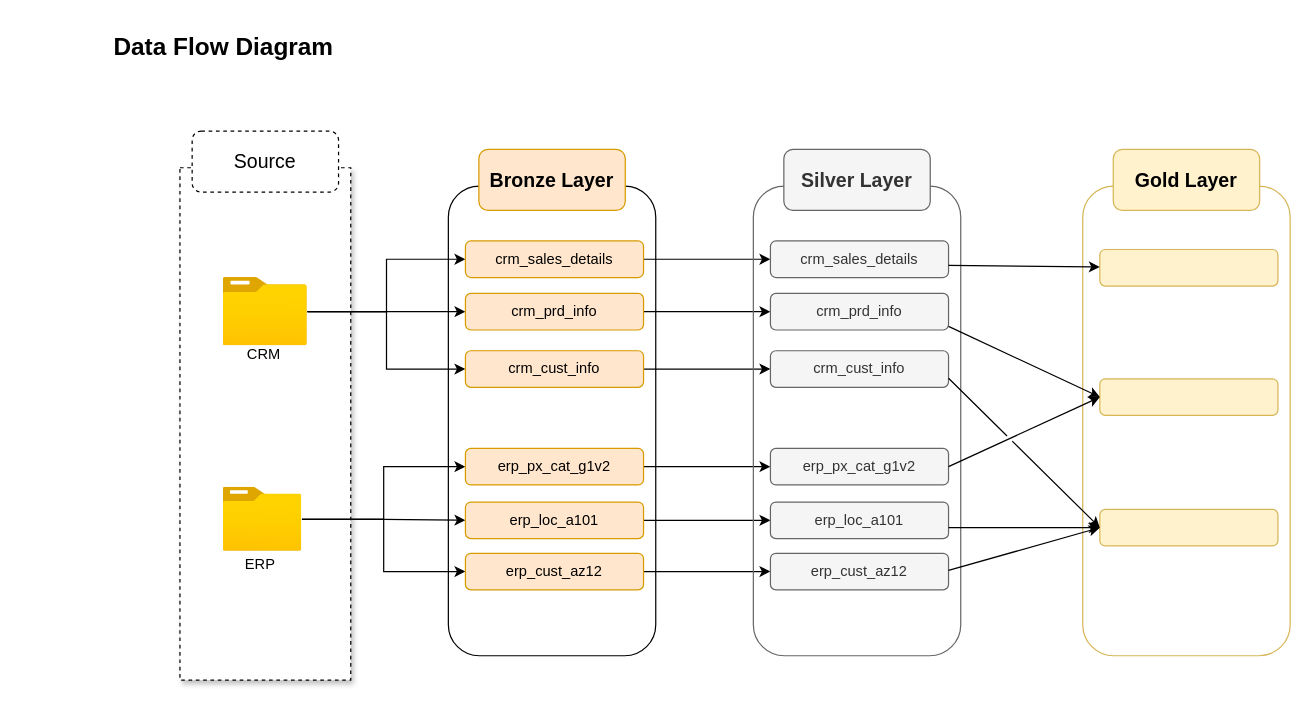
This 1312x710 diagram has some shape labels left out. The shapes that lost their labels are listed below. From the top down, each one's centre as x and y in pixels, then its label:
the point at 1188,267: fact_sales
the point at 1188,396: dim_products
the point at 1188,527: dim_customer
